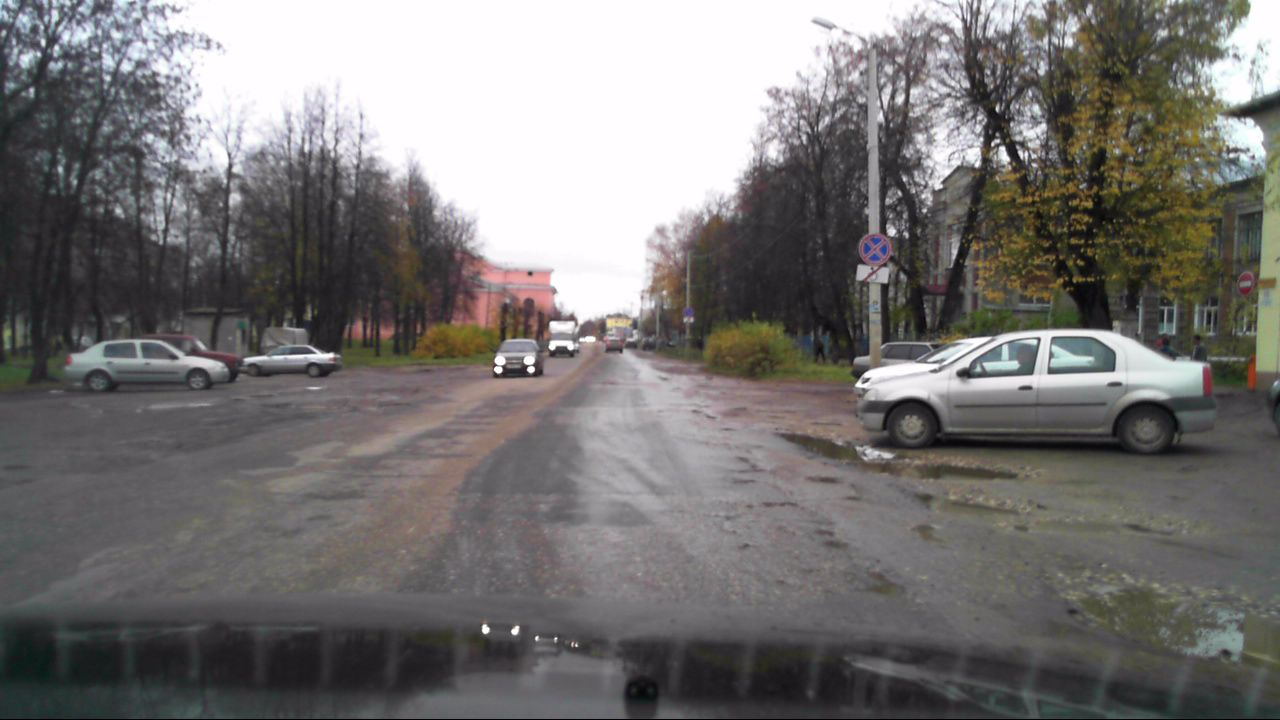No Parking: (859, 233, 891, 265)
